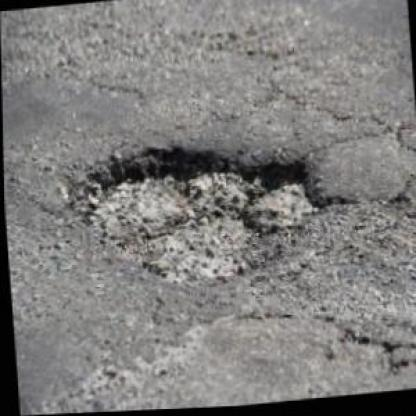pothole: (63, 128, 335, 302)
